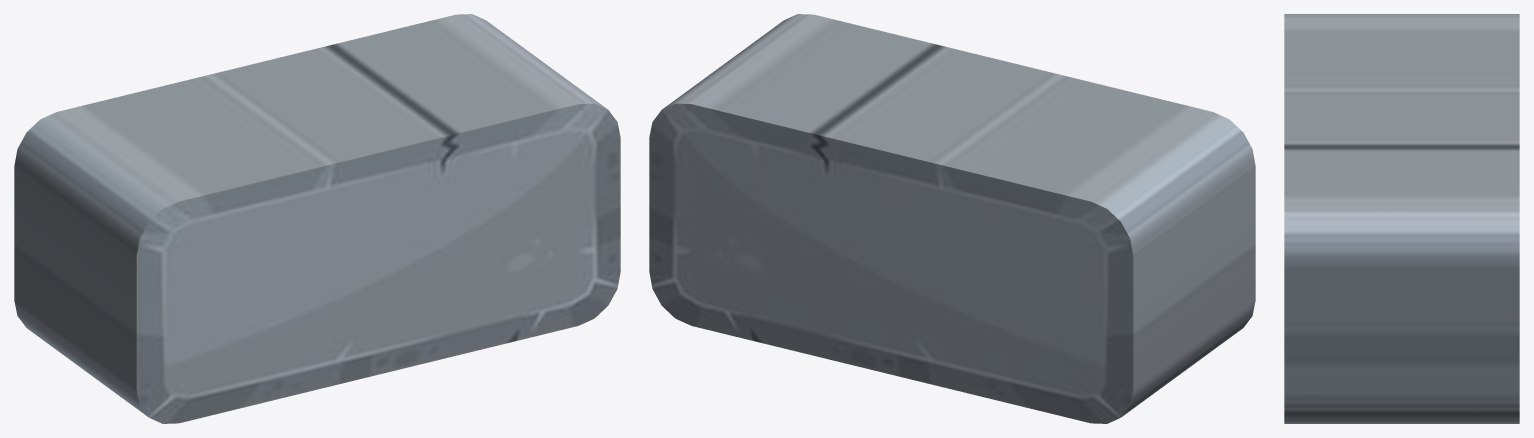
File: Obstacle_Type4.fbx
3 renders of one model, left to right at view 1: azimuth 30°, elevation 25°; view 2: azimuth 150°, elevation 25°; view 3: azimuth 270°, elevation 25°, orthographic. The views are drawn at different scales.
Visible parts, largest first — view 1: Block_Type4; view 2: Block_Type4; view 3: Block_Type4.
Boxes of the visible parts, x1,y1,x2,y2 form: Block_Type4: (14,14,620,423); Block_Type4: (649,14,1255,423); Block_Type4: (1284,14,1519,423).
Bounding box in the file's own units: 457 × 200 × 200.
1 material, 1 textured.
